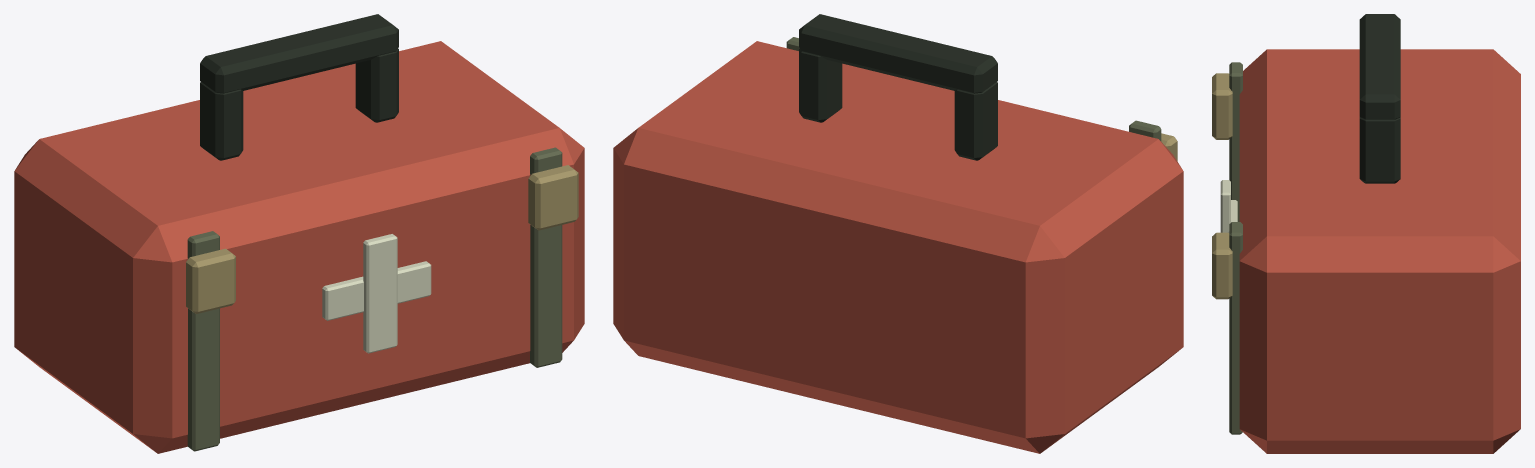
File: loot_repair_kit.obj
The picture shows the model from 3 angles, left to right: view 1: azimuth 30°, elevation 25°; view 2: azimuth 150°, elevation 25°; view 3: azimuth 270°, elevation 25°; orthographic projection. The views are drawn at different scales.
Visible parts, largest first — view 1: loot_repair_kit; view 2: loot_repair_kit; view 3: loot_repair_kit.
Part boxes in pixels (x1,y1,x2,y2): loot_repair_kit: [14, 14, 584, 453]; loot_repair_kit: [613, 14, 1183, 453]; loot_repair_kit: [1212, 14, 1520, 453].
Bounding box in the file's own units: 1.45 × 0.985 × 0.9.
Materials: 1 (1 with a texture image).
